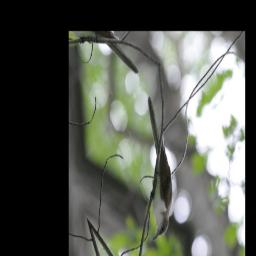Cuckoo: (109, 92, 197, 248)
